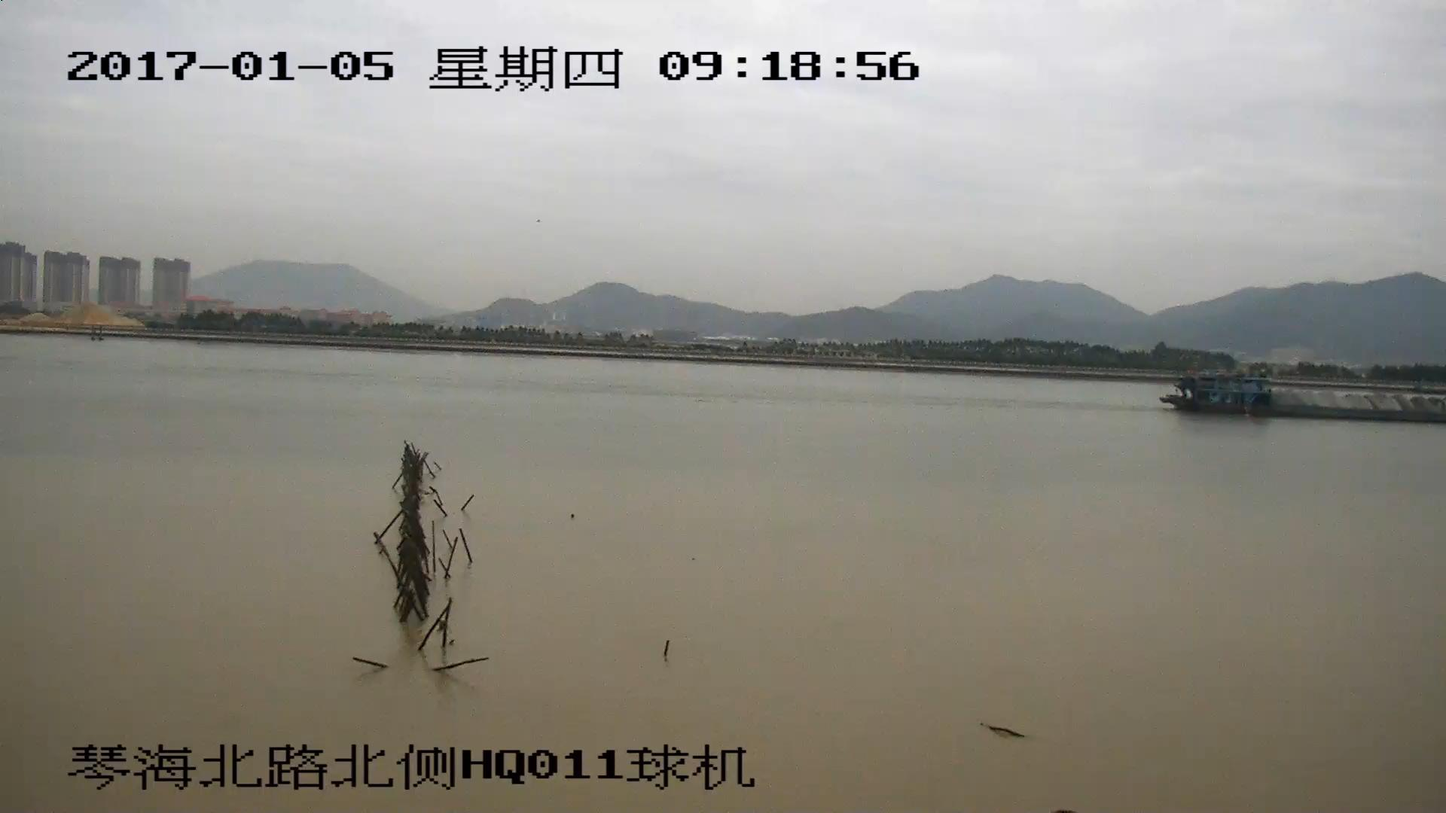ore carrier: (1164, 376, 1445, 421)
